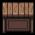Obstacle: (1, 1, 35, 34)
